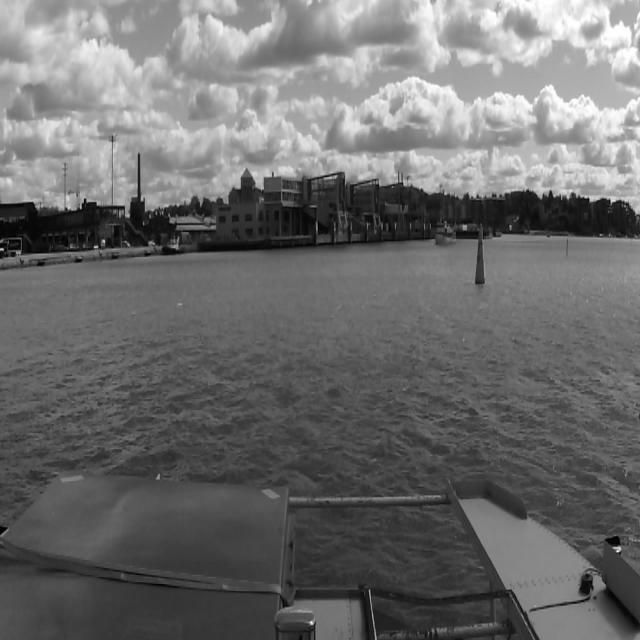buoy: (474, 224, 486, 283)
ship: (437, 220, 455, 246)
